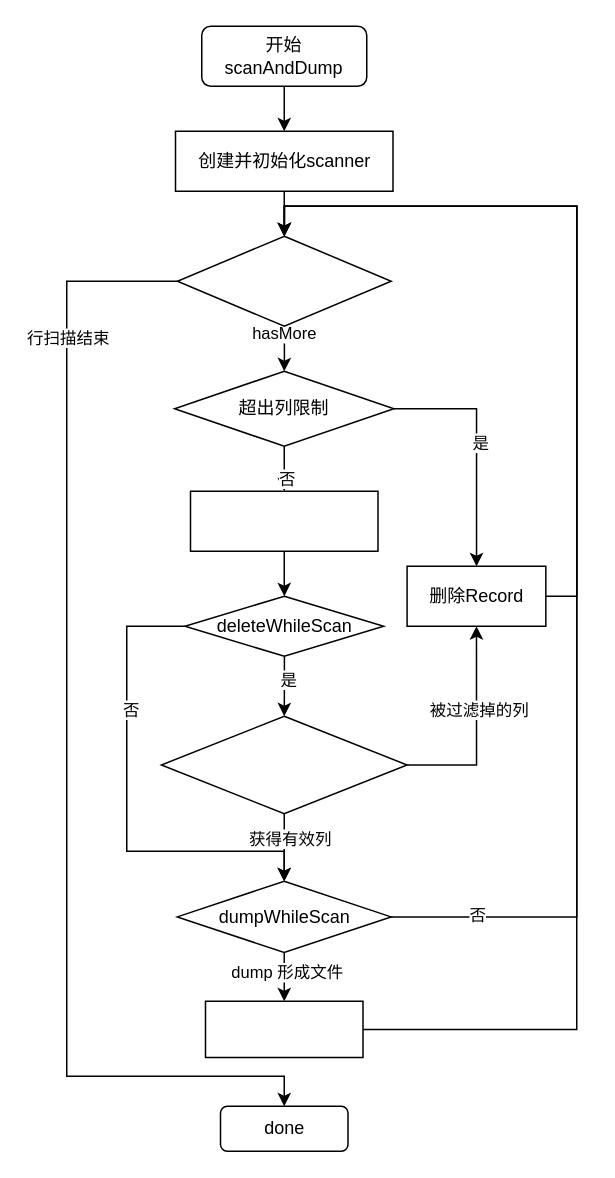
The diagram is 615 pixels wide and 1178 high, and some of its shapes have lost their labels. Each missing label, with the centre of its shape:
"NoveltysStoreDeleter ::filterRecords()" goes at point 283,764.
"writeSstable()" goes at point 283,1029.
"行扫 scanner.next()" goes at point 283,280.
"遍历该行的Cell，生成 MarvelRowRecord" goes at point 283,520.
